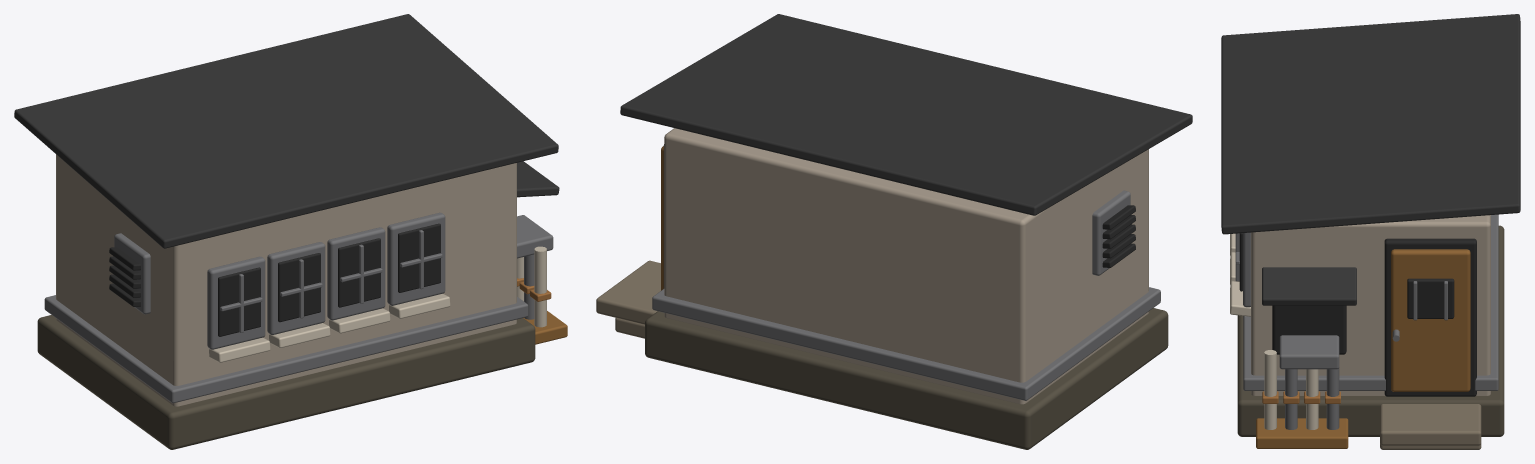
Rendered from soil-laboratory.glb.
3 views of the same model, side by side, from view 1: azimuth 30°, elevation 25°; view 2: azimuth 150°, elevation 25°; view 3: azimuth 270°, elevation 25° (orthographic). The views are drawn at different scales.
Parts seen in each view (by area): view 1: soil-laboratory-farm-roof-slate, soil-laboratory-farm-plaster, soil-laboratory-farm-metal, soil-laboratory-farm-stone-dark, soil-laboratory-farm-window, soil-laboratory-farm-trim, soil-laboratory-farm-wood-dark; view 2: soil-laboratory-farm-plaster, soil-laboratory-farm-roof-slate, soil-laboratory-farm-stone-dark, soil-laboratory-farm-metal, soil-laboratory-farm-stone, soil-laboratory-farm-window; view 3: soil-laboratory-farm-roof-slate, soil-laboratory-farm-plaster, soil-laboratory-farm-wood-dark, soil-laboratory-farm-metal, soil-laboratory-farm-window, soil-laboratory-farm-stone-dark, soil-laboratory-farm-stone, soil-laboratory-farm-trim, soil-laboratory-farm-wood.
Part boxes in pixels (x1,y1,x2,y2): soil-laboratory-farm-roof-slate: [14, 14, 559, 248]; soil-laboratory-farm-plaster: [56, 154, 516, 406]; soil-laboratory-farm-metal: [44, 212, 553, 403]; soil-laboratory-farm-stone-dark: [37, 315, 535, 449]; soil-laboratory-farm-window: [109, 223, 440, 336]; soil-laboratory-farm-trim: [209, 246, 546, 362]; soil-laboratory-farm-wood-dark: [523, 311, 567, 344]; soil-laboratory-farm-plaster: [664, 128, 1148, 404]; soil-laboratory-farm-roof-slate: [620, 14, 1192, 215]; soil-laboratory-farm-stone-dark: [645, 308, 1168, 449]; soil-laboratory-farm-metal: [652, 190, 1160, 400]; soil-laboratory-farm-stone: [596, 260, 660, 338]; soil-laboratory-farm-window: [663, 144, 1135, 288]; soil-laboratory-farm-roof-slate: [1221, 14, 1520, 305]; soil-laboratory-farm-plaster: [1251, 215, 1490, 395]; soil-laboratory-farm-wood-dark: [1256, 249, 1470, 448]; soil-laboratory-farm-metal: [1235, 214, 1498, 429]; soil-laboratory-farm-window: [1239, 233, 1476, 396]; soil-laboratory-farm-stone-dark: [1237, 225, 1504, 436]; soil-laboratory-farm-stone: [1380, 404, 1481, 449]; soil-laboratory-farm-trim: [1230, 233, 1318, 429]; soil-laboratory-farm-wood: [1262, 391, 1340, 403].
Bounding box in the file's own units: 5.56 × 2.94 × 3.3.
